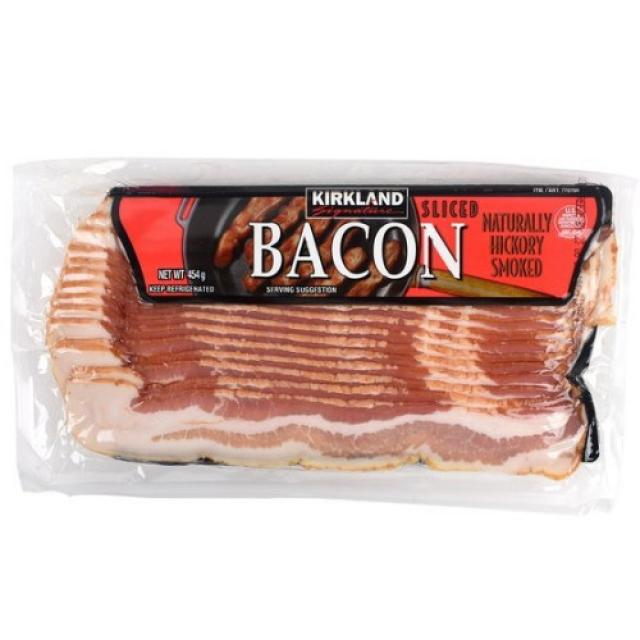bacon: (46, 200, 614, 467)
